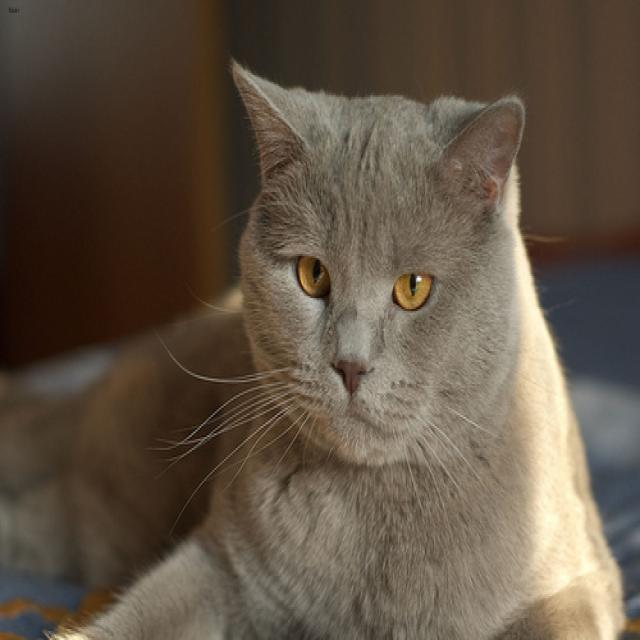British_Shorthair: (232, 58, 522, 461)
